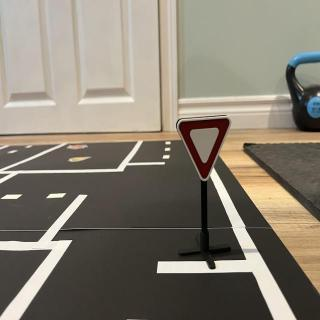sign_yield: (178, 117, 233, 181)
